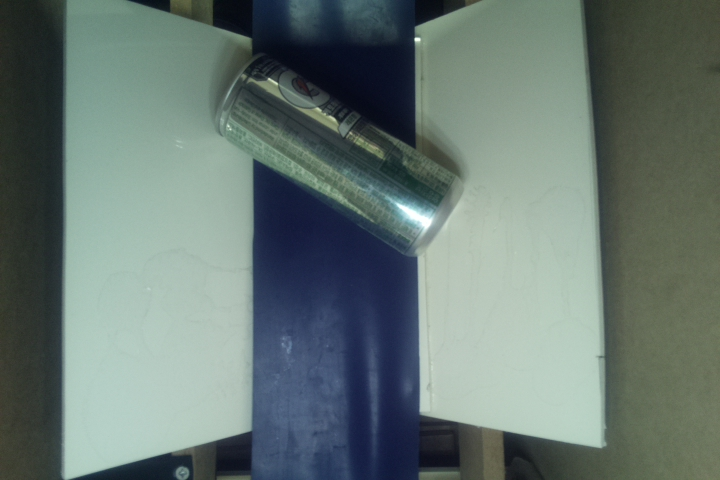can: (213, 57, 468, 256)
